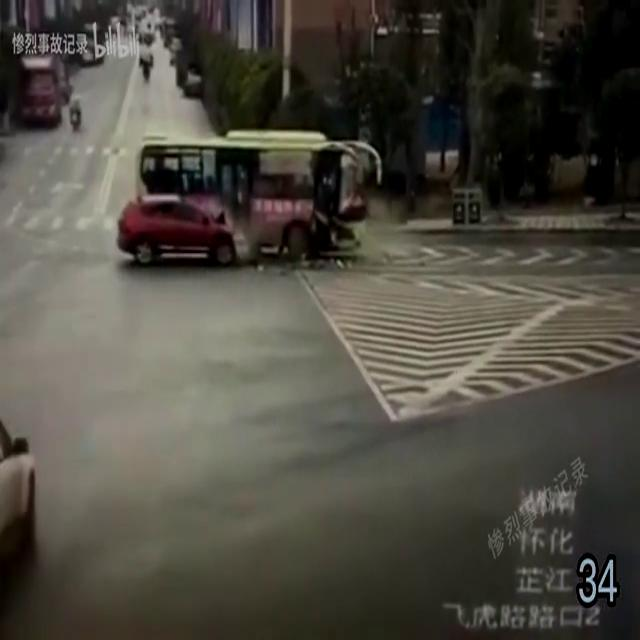accident: (115, 126, 385, 296)
